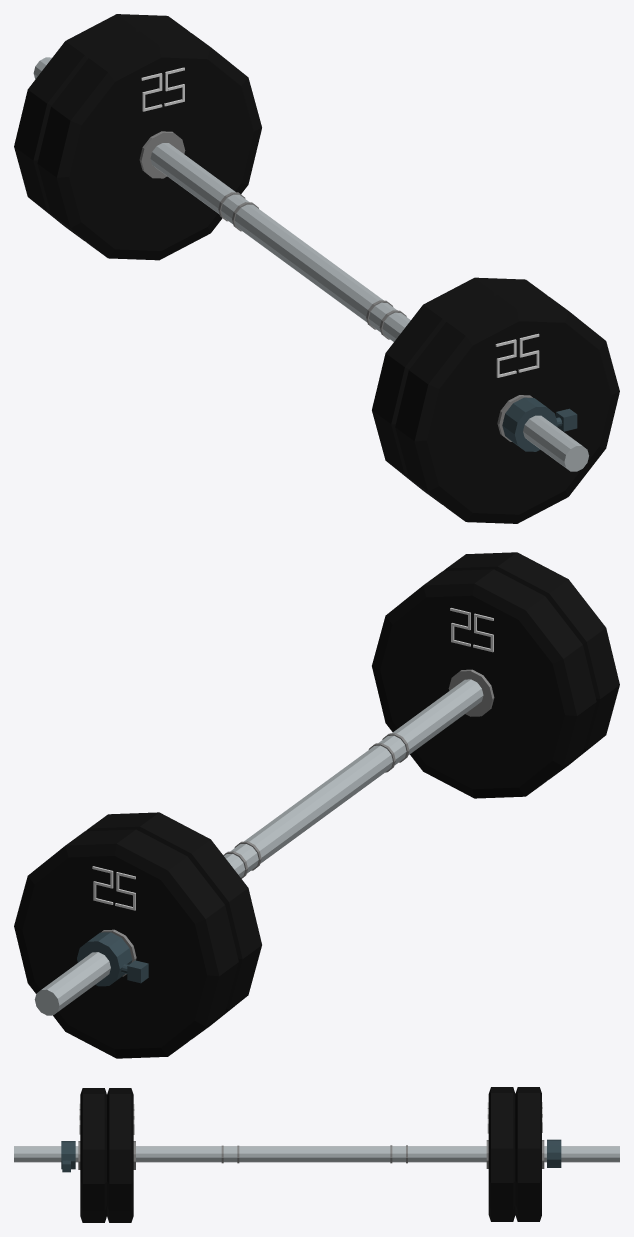
The picture shows the model from 3 angles, top to bottom: view 1: azimuth 30°, elevation 25°; view 2: azimuth 150°, elevation 25°; view 3: azimuth 270°, elevation 25°; orthographic projection. The views are drawn at different scales.
Visible parts, largest first — view 1: node_MeshObject1984011904-PolyPaper17; view 2: node_MeshObject1984011904-PolyPaper17; view 3: node_MeshObject1984011904-PolyPaper17.
Part boxes in pixels (x1,y1,x2,y2): node_MeshObject1984011904-PolyPaper17: (14,14,619,523); node_MeshObject1984011904-PolyPaper17: (14,552,619,1058); node_MeshObject1984011904-PolyPaper17: (14,1087,619,1222).
Size of the model in its own units: 0.61 by 0.615 by 2.73.
